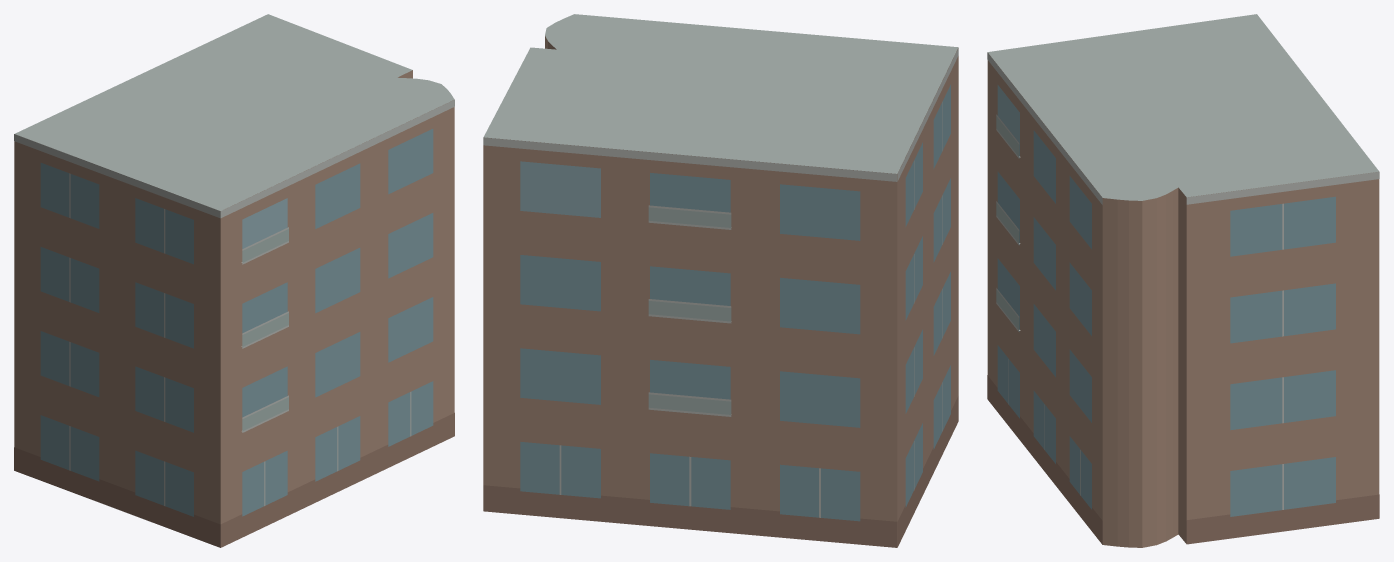
Rendered from survey-upis-32699619.glb.
The picture shows the model from 3 angles, left to right: view 1: azimuth 30°, elevation 25°; view 2: azimuth 150°, elevation 25°; view 3: azimuth 270°, elevation 25°; orthographic projection. The views are drawn at different scales.
Parts seen in each view (by area): view 1: survey-upis-32699619.tmp; view 2: survey-upis-32699619.tmp; view 3: survey-upis-32699619.tmp.
Boxes of the visible parts, x1=… form: survey-upis-32699619.tmp: x1=14, y1=14, x2=454, y2=547; survey-upis-32699619.tmp: x1=483, y1=14, x2=958, y2=547; survey-upis-32699619.tmp: x1=987, y1=14, x2=1379, y2=547.
Size of the model in its own units: 13.17 by 11.4 by 11.68.
